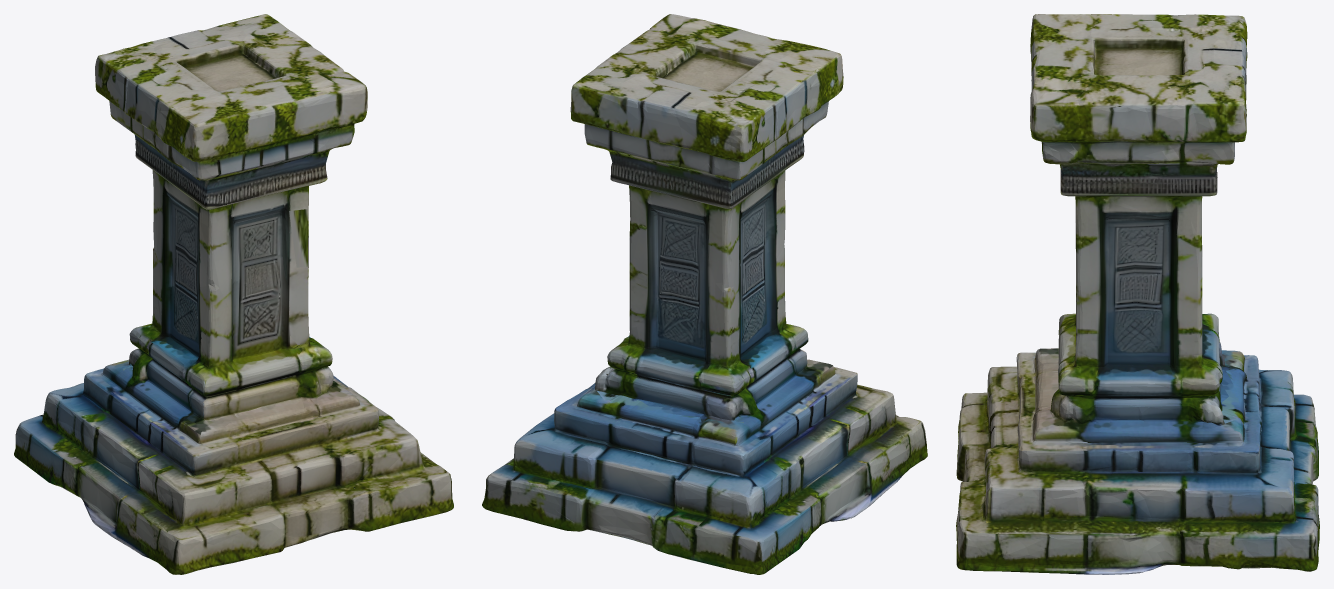
The model's file is kadamba-carved-granite-pillar-optimized.glb.
The picture shows the model from 3 angles, left to right: view 1: azimuth 30°, elevation 25°; view 2: azimuth 150°, elevation 25°; view 3: azimuth 270°, elevation 25°; orthographic projection. The views are drawn at different scales.
Parts seen in each view (by area): view 1: b725a34f-2557-4b89-a0a6-cf451255bf96_texturing; view 2: b725a34f-2557-4b89-a0a6-cf451255bf96_texturing; view 3: b725a34f-2557-4b89-a0a6-cf451255bf96_texturing.
Boxes of the visible parts, x1,y1,x2,y2 form: b725a34f-2557-4b89-a0a6-cf451255bf96_texturing: [14, 14, 453, 574]; b725a34f-2557-4b89-a0a6-cf451255bf96_texturing: [482, 14, 927, 574]; b725a34f-2557-4b89-a0a6-cf451255bf96_texturing: [956, 14, 1319, 574].
Size of the model in its own units: 2.16 by 3 by 2.21.
Materials: 1 (1 with a texture image).
